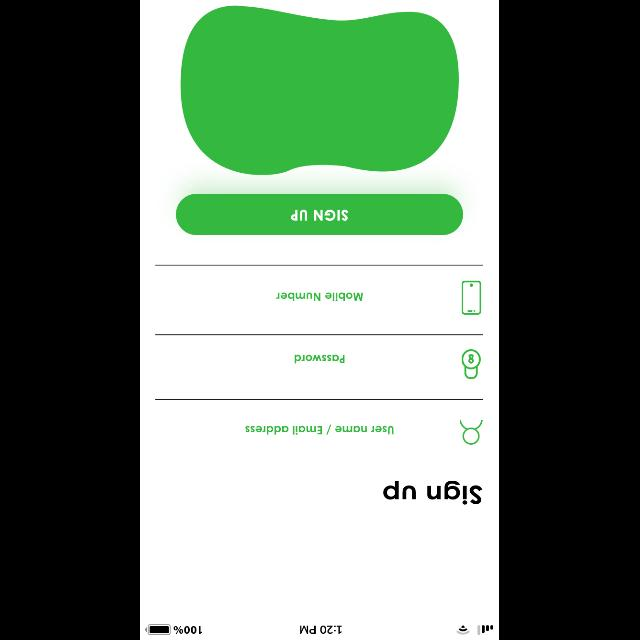icon: (462, 349, 482, 379), (461, 420, 484, 444)
image: (462, 280, 482, 314)
input: (156, 265, 484, 315), (156, 399, 484, 445), (156, 334, 484, 378)
text: (383, 480, 483, 504), (246, 424, 394, 436), (276, 292, 364, 302), (295, 354, 345, 364)
textbutton: (176, 193, 464, 234)
uppertaskbar: (140, 623, 500, 639)
